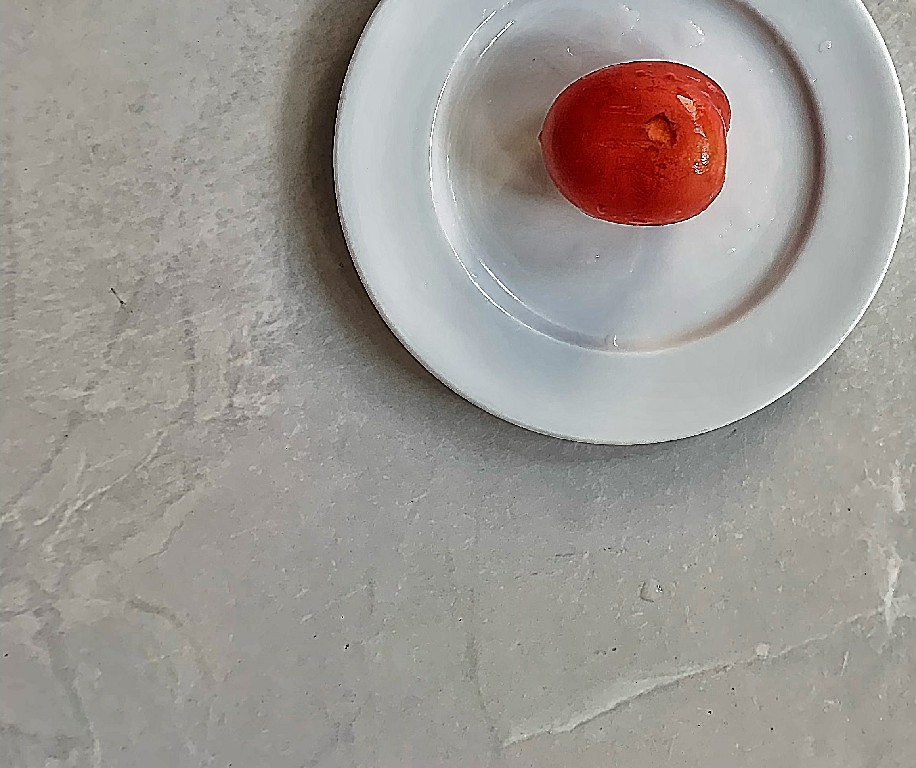NG: (538, 60, 733, 234)
